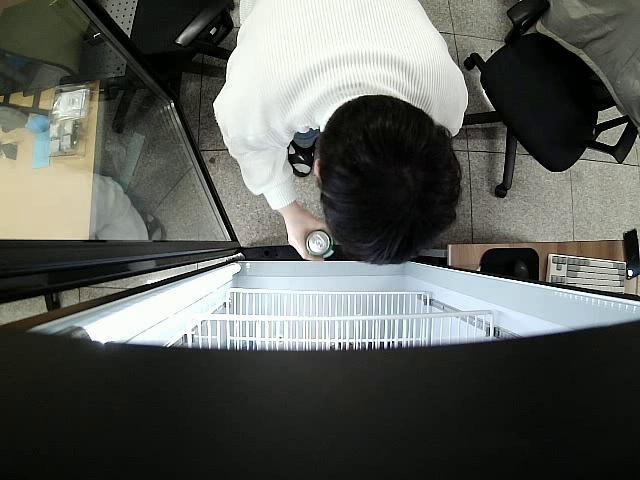12_chilsungCider: (306, 230, 334, 258)
